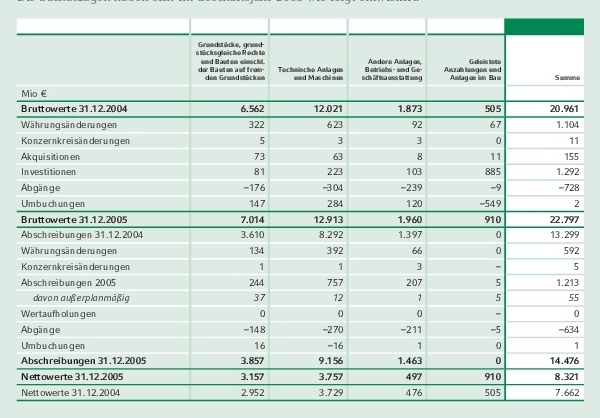table: (0, 0, 600, 418)
